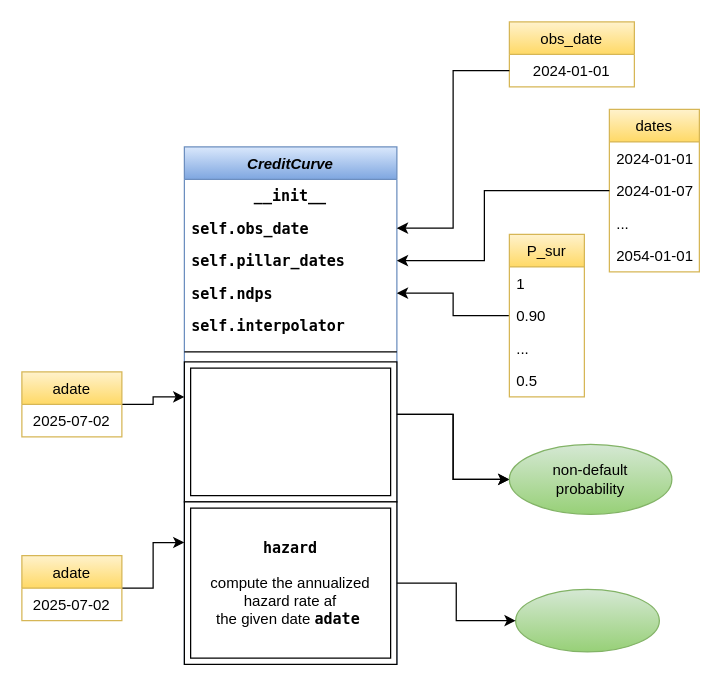
This 721x686 diagram has some shape labels left out. The centre of each missing label's shape, as x and y in pixels:
hazard rate: [586,620]
ndp calculate the inon-default probability at date adate: [290,431]
